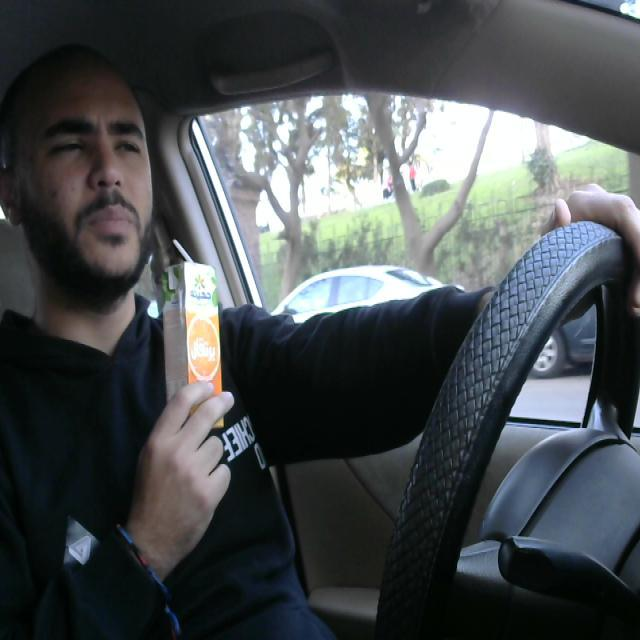Seatbelt: (162, 256, 230, 434)
